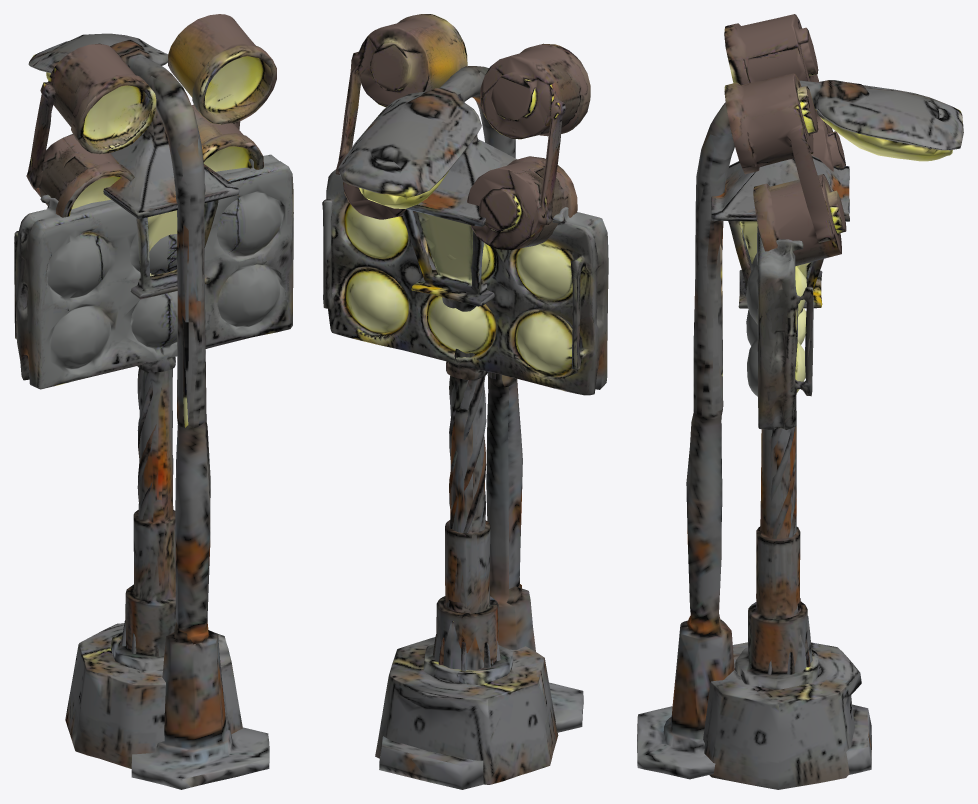
The model's file is street+lamp+3d+model.fbx.
3 renders of one model, left to right at view 1: azimuth 30°, elevation 25°; view 2: azimuth 150°, elevation 25°; view 3: azimuth 270°, elevation 25°, orthographic.
Visible parts, largest first — view 1: poste 6, poste 1, poste 4, lamp; view 2: poste 6, poste 4, poste 1, lamp; view 3: poste 6, poste 1, poste 4, lamp.
Part boxes in pixels (x1=…): poste 6: x1=14, y1=154, x2=293, y2=768; poste 1: x1=28, y1=33, x2=269, y2=789; poste 4: x1=26, y1=14, x2=276, y2=648; lamp: x1=103, y1=109, x2=239, y2=656; poste 6: x1=322, y1=169, x2=608, y2=784; poste 4: x1=335, y1=14, x2=590, y2=789; poste 1: x1=338, y1=66, x2=583, y2=732; lamp: x1=402, y1=134, x2=516, y2=671; poste 6: x1=703, y1=226, x2=861, y2=789; poste 1: x1=637, y1=80, x2=963, y2=779; poste 4: x1=724, y1=14, x2=871, y2=774; lamp: x1=711, y1=155, x2=849, y2=674.
Size of the model in its own units: 18.53 by 46.71 by 19.67.
